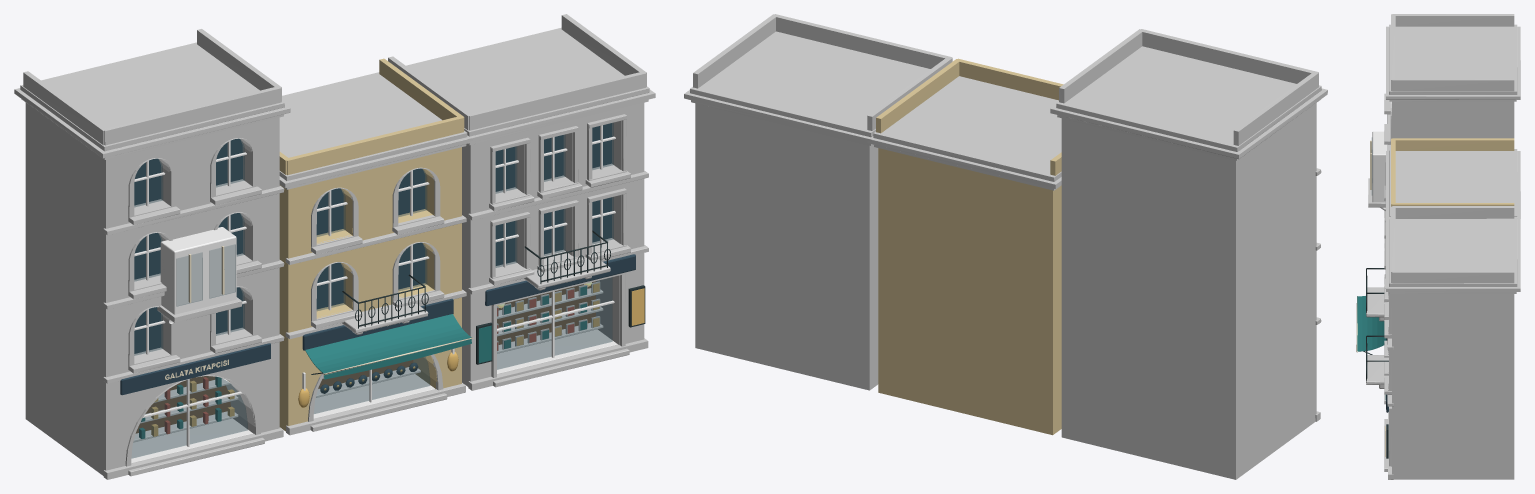
Rendered from DistrictBlock_4_0_LOD1.glb.
3 views of the same model, side by side, from view 1: azimuth 30°, elevation 25°; view 2: azimuth 150°, elevation 25°; view 3: azimuth 270°, elevation 25° (orthographic). The views are drawn at different scales.
Parts seen in each view (by area): view 1: RK_DistrictBlock_4_0_LOD1_LC_Lime, RK_DistrictBlock_4_0_LOD1_LC_Glass, RK_DistrictBlock_4_0_LOD1_LC_Ochre, RK_DistrictBlock_4_0_LOD1_LC_Wood, RK_DistrictBlock_4_0_LOD1_LC_Ink, RK_DistrictBlock_4_0_LOD1_LC_Teal, RK_DistrictBlock_4_0_LOD1_LC_Interior, RK_DistrictBlock_4_0_LOD1_LC_Iron, RK_DistrictBlock_4_0_LOD1_LC_Gold, RK_DistrictBlock_4_0_LOD1_LC_Canvas, RK_DistrictBlock_4_0_LOD1_LC_Red; view 2: RK_DistrictBlock_4_0_LOD1_LC_Lime, RK_DistrictBlock_4_0_LOD1_LC_Ochre; view 3: RK_DistrictBlock_4_0_LOD1_LC_Lime, RK_DistrictBlock_4_0_LOD1_LC_Ochre, RK_DistrictBlock_4_0_LOD1_LC_Teal, RK_DistrictBlock_4_0_LOD1_LC_Wood, RK_DistrictBlock_4_0_LOD1_LC_Iron, RK_DistrictBlock_4_0_LOD1_LC_Canvas.
Part boxes in pixels (x1,y1,x2,y2): RK_DistrictBlock_4_0_LOD1_LC_Lime: [14, 14, 655, 479]; RK_DistrictBlock_4_0_LOD1_LC_Glass: [131, 123, 613, 458]; RK_DistrictBlock_4_0_LOD1_LC_Ochre: [279, 58, 464, 431]; RK_DistrictBlock_4_0_LOD1_LC_Wood: [131, 125, 617, 463]; RK_DistrictBlock_4_0_LOD1_LC_Ink: [120, 123, 635, 395]; RK_DistrictBlock_4_0_LOD1_LC_Teal: [139, 286, 586, 438]; RK_DistrictBlock_4_0_LOD1_LC_Interior: [136, 281, 595, 433]; RK_DistrictBlock_4_0_LOD1_LC_Iron: [311, 230, 645, 374]; RK_DistrictBlock_4_0_LOD1_LC_Gold: [151, 283, 644, 436]; RK_DistrictBlock_4_0_LOD1_LC_Canvas: [165, 246, 473, 379]; RK_DistrictBlock_4_0_LOD1_LC_Red: [164, 289, 574, 434]; RK_DistrictBlock_4_0_LOD1_LC_Lime: [684, 14, 1327, 479]; RK_DistrictBlock_4_0_LOD1_LC_Ochre: [876, 58, 1063, 435]; RK_DistrictBlock_4_0_LOD1_LC_Lime: [1366, 14, 1520, 479]; RK_DistrictBlock_4_0_LOD1_LC_Ochre: [1391, 138, 1514, 206]; RK_DistrictBlock_4_0_LOD1_LC_Teal: [1357, 296, 1386, 399]; RK_DistrictBlock_4_0_LOD1_LC_Wood: [1372, 131, 1387, 211]; RK_DistrictBlock_4_0_LOD1_LC_Iron: [1363, 268, 1388, 458]; RK_DistrictBlock_4_0_LOD1_LC_Canvas: [1356, 140, 1371, 352].
Bounding box in the file's own units: 19.09 × 11.47 × 6.45.
